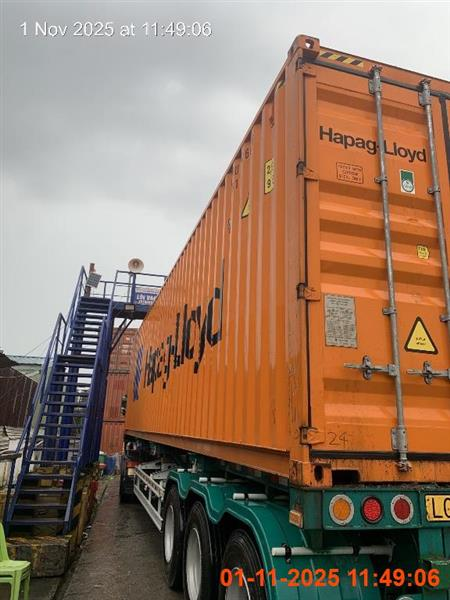crack: (119, 35, 449, 599)
